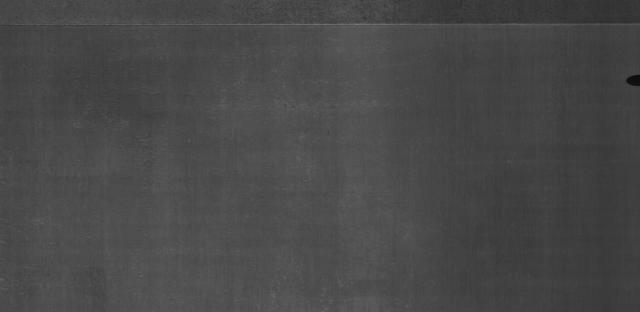punching_hole: (618, 71, 640, 89)
welding_line: (1, 18, 640, 36)
